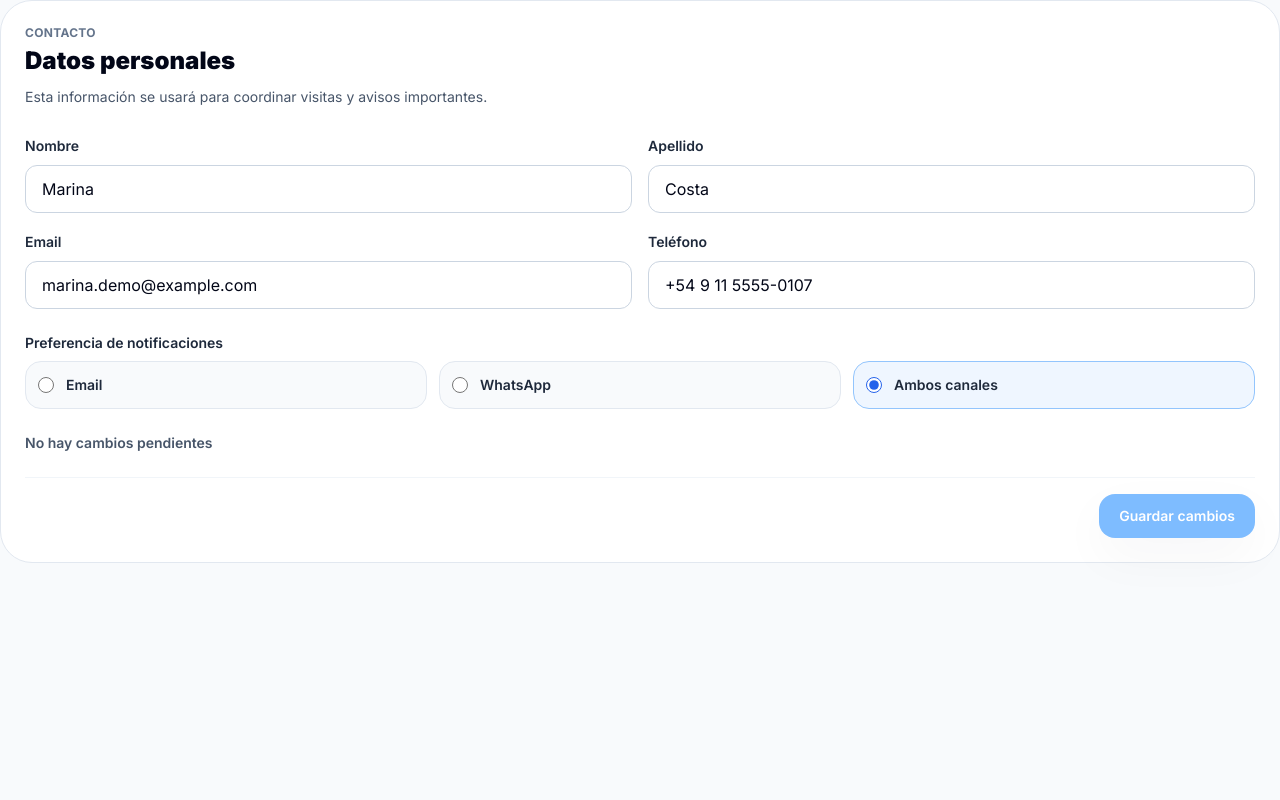
Test: customer account forms › exposes invalid profile fields accessibly
The width and height of the screenshot is (1280, 800).
Replace the text in the field labelled "Email" with "correo-invalido" at (328, 285), box [25,261,632,309]
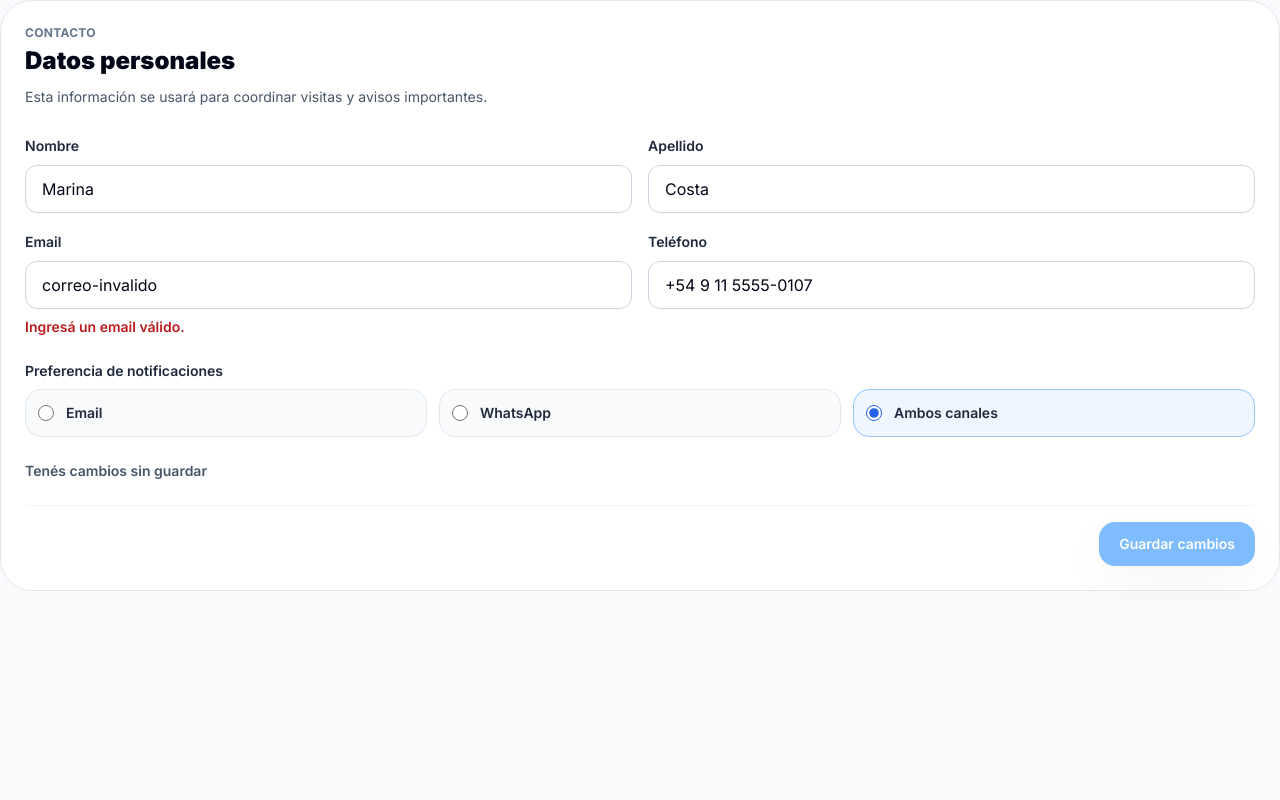
Expected: the button "Guardar cambios" is disabled, [1099,522,1255,566]
Now the text "Ingresá un email válido." is shown, box [25,318,185,335]
